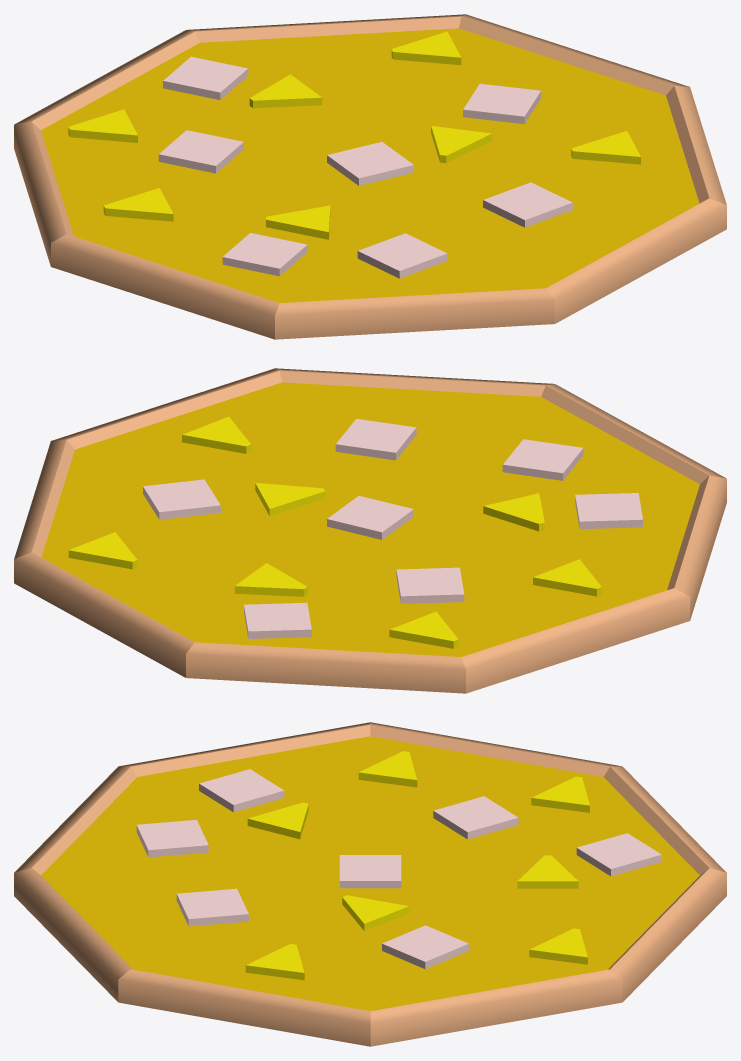
Rendered from Heretic Pizza 1.fbx.
3 views of the same model, one above another, from view 1: azimuth 30°, elevation 25°; view 2: azimuth 150°, elevation 25°; view 3: azimuth 270°, elevation 25° (orthographic). The views are drawn at different scales.
Parts seen in each view (by area): view 1: pCube15; view 2: pCube15; view 3: pCube15.
Boxes of the visible parts, bbox=[...] form: pCube15: bbox=[14, 14, 726, 339]; pCube15: bbox=[14, 368, 726, 693]; pCube15: bbox=[14, 722, 726, 1046].
Size of the model in its own units: 11.6 by 0.5042 by 11.6.
